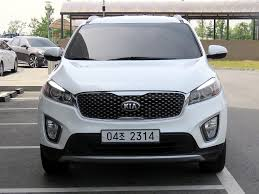plate: (101, 130, 159, 142)
